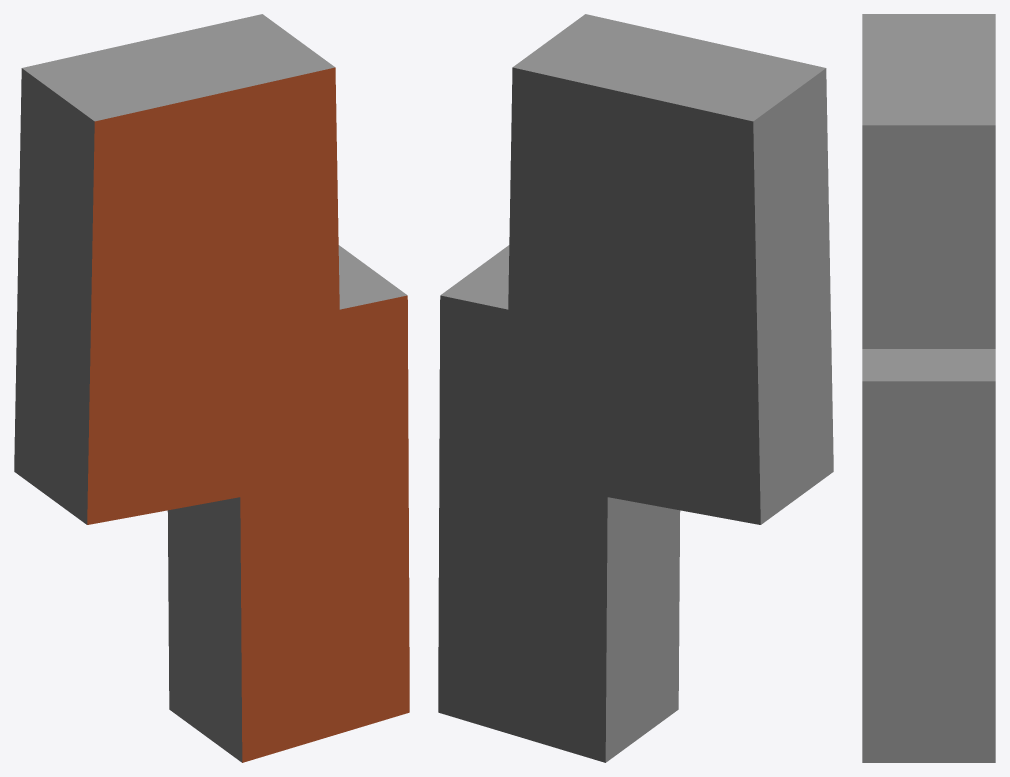
Rendered from construction_6029_assumed_A_Casa_h6m.obj.
The picture shows the model from 3 angles, left to right: view 1: azimuth 30°, elevation 25°; view 2: azimuth 150°, elevation 25°; view 3: azimuth 270°, elevation 25°; orthographic projection. The views are drawn at different scales.
Visible parts, largest first — view 1: construction_6029_assumed_A_Casa; view 2: construction_6029_assumed_A_Casa; view 3: construction_6029_assumed_A_Casa.
Boxes of the visible parts, x1,y1,x2,y2 form: construction_6029_assumed_A_Casa: (14, 14, 409, 762); construction_6029_assumed_A_Casa: (438, 14, 833, 762); construction_6029_assumed_A_Casa: (862, 14, 995, 762).
Bounding box in the file's own units: 15.31 × 30.71 × 6.
